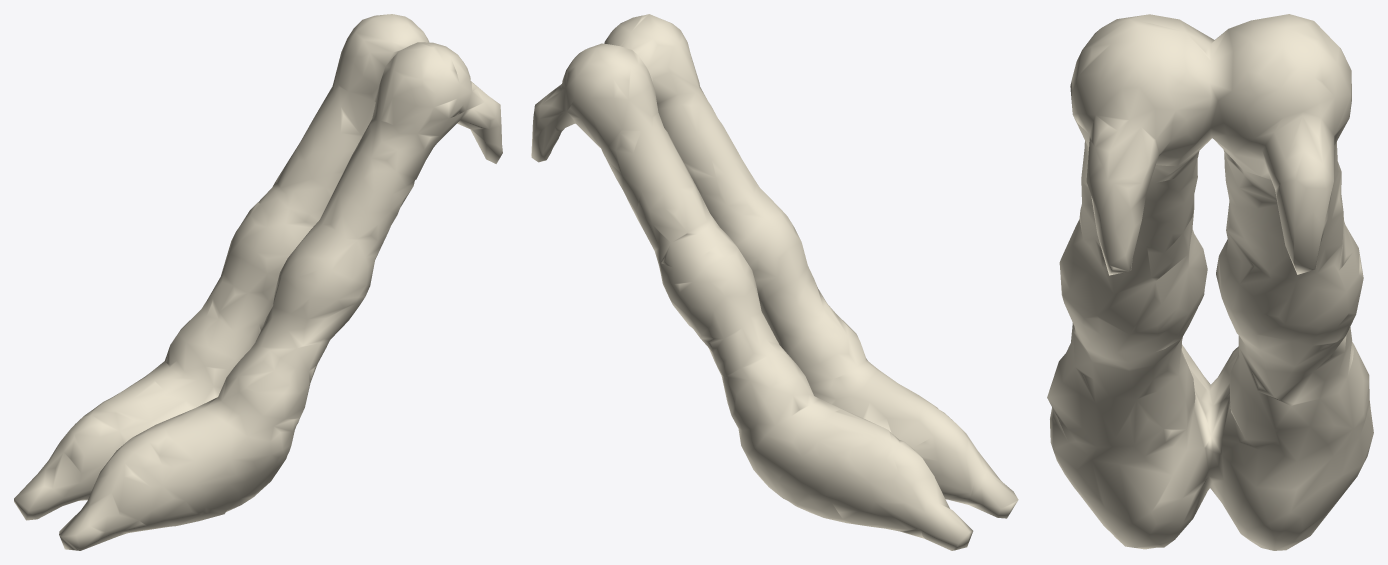
File: forefoot_r.glb
3 views of the same model, side by side, from view 1: azimuth 30°, elevation 25°; view 2: azimuth 150°, elevation 25°; view 3: azimuth 270°, elevation 25° (orthographic). The views are drawn at different scales.
Parts seen in each view (by area): view 1: geometry_0; view 2: geometry_0; view 3: geometry_0.
Boxes of the visible parts, x1,y1,x2,y2 form: geometry_0: [14, 14, 502, 550]; geometry_0: [531, 14, 1018, 550]; geometry_0: [1047, 14, 1373, 550].
Bounding box in the file's own units: 0.3608 × 0.3307 × 0.1405.
